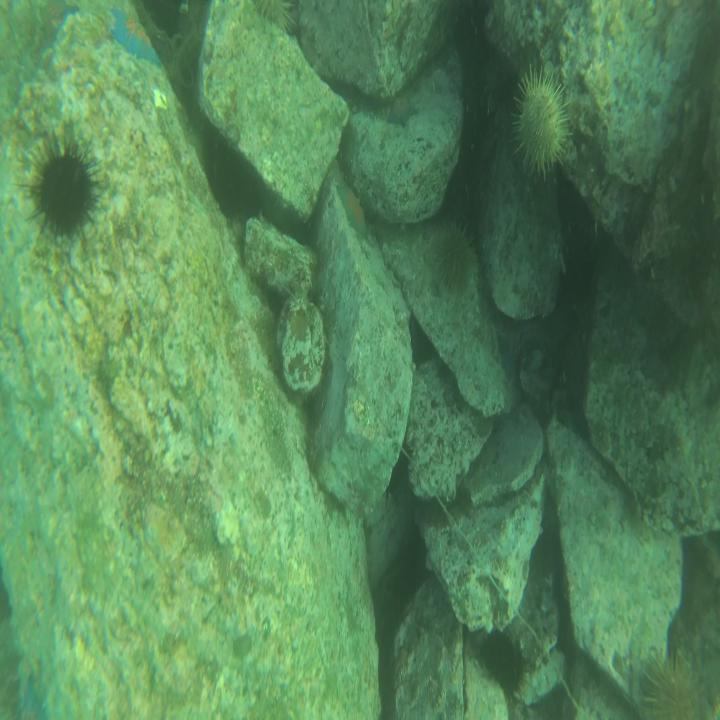echinus: (29, 130, 96, 234), (515, 70, 575, 175), (646, 637, 708, 720), (434, 215, 479, 294), (253, 0, 302, 32)
starfish: (106, 3, 164, 65), (337, 178, 370, 234)
